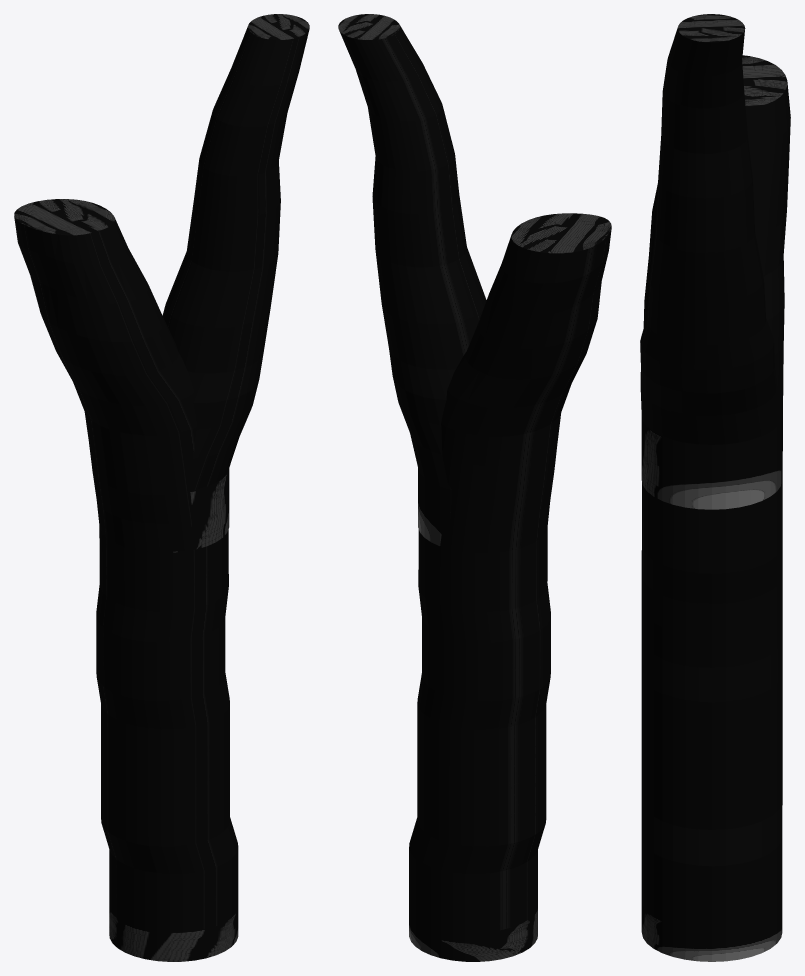
File: stick.fbx
3 views of the same model, side by side, from view 1: azimuth 30°, elevation 25°; view 2: azimuth 150°, elevation 25°; view 3: azimuth 270°, elevation 25° (orthographic). The views are drawn at different scales.
Visible parts, largest first — view 1: Cylinder; view 2: Cylinder; view 3: Cylinder.
Boxes of the visible parts, x1,y1,x2,y2 form: Cylinder: (14, 14, 309, 961); Cylinder: (338, 14, 611, 961); Cylinder: (640, 14, 790, 961).
Size of the model in its own units: 77.53 by 239 by 34.04.
